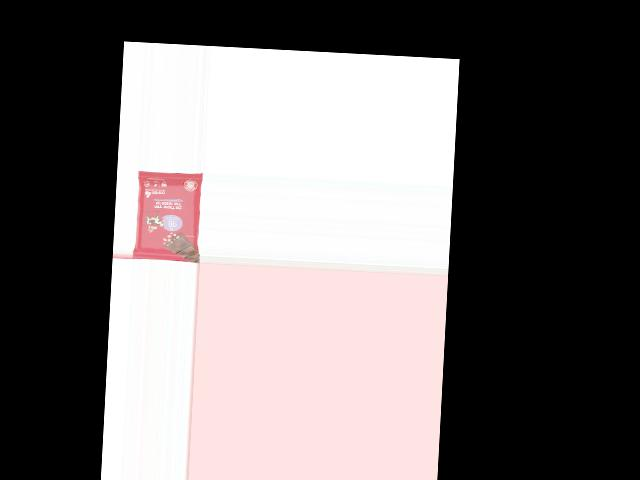chocolate: (132, 169, 201, 262)
